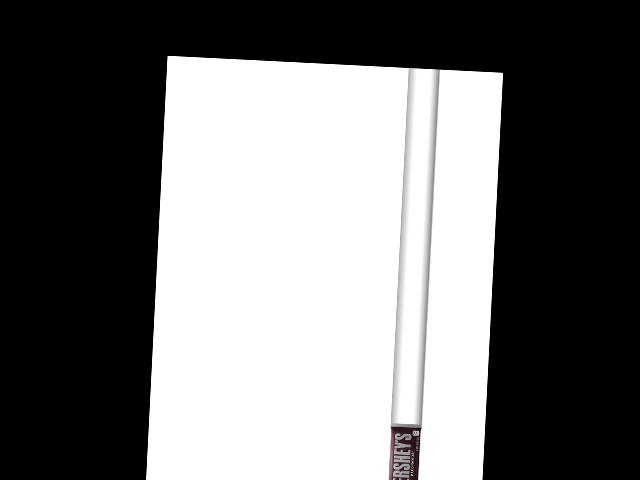chocolate: (388, 423, 425, 480)
